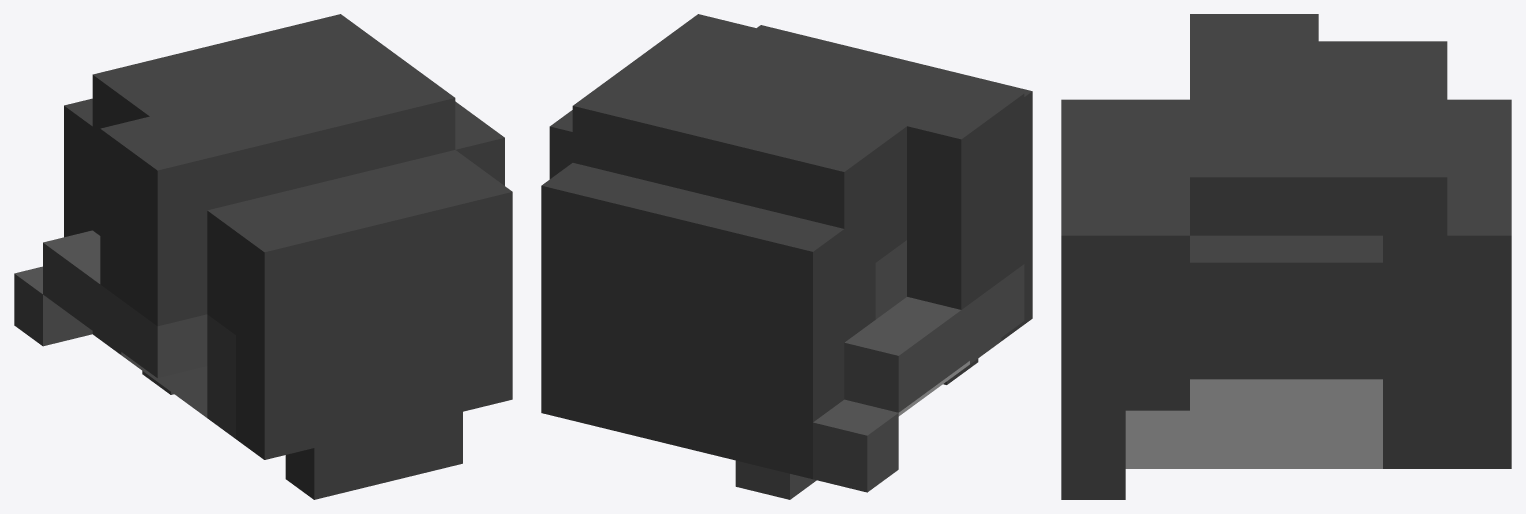
Rendered from shoulder-1.obj.
3 views of the same model, side by side, from view 1: azimuth 30°, elevation 25°; view 2: azimuth 150°, elevation 25°; view 3: azimuth 270°, elevation 25° (orthographic). The views are drawn at different scales.
Size of the model in its own units: 7 by 6 by 7.
Materials: 1 (1 with a texture image).
